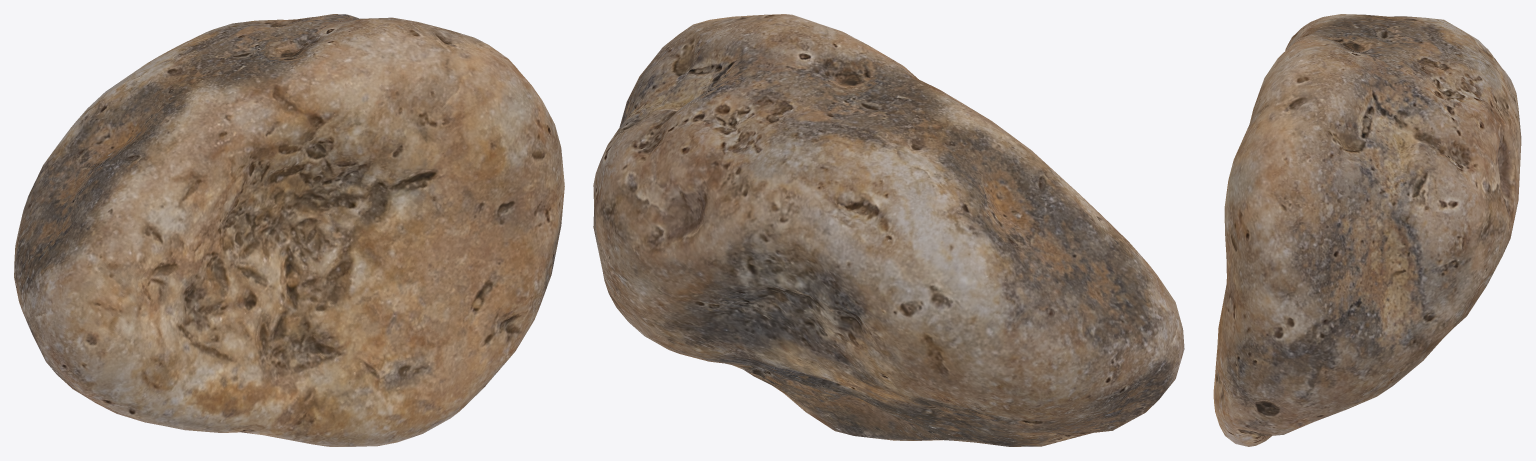
Rendered from stone3_low.glb.
The picture shows the model from 3 angles, left to right: view 1: azimuth 30°, elevation 25°; view 2: azimuth 150°, elevation 25°; view 3: azimuth 270°, elevation 25°; orthographic projection. The views are drawn at different scales.
Parts seen in each view (by area): view 1: Object_2; view 2: Object_2; view 3: Object_2.
Boxes of the visible parts, box(x1,y1,x2,y2) form: Object_2: box(14, 14, 564, 446); Object_2: box(593, 14, 1184, 446); Object_2: box(1213, 14, 1521, 446).
Bounding box in the file's own units: 1.03 × 0.7423 × 0.5368.
Materials: 1 (1 with a texture image).
